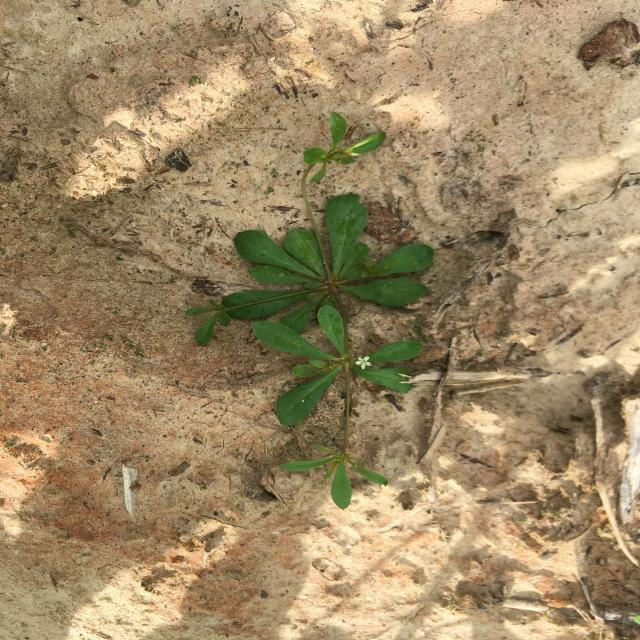Carpetweed: (184, 111, 434, 510)
